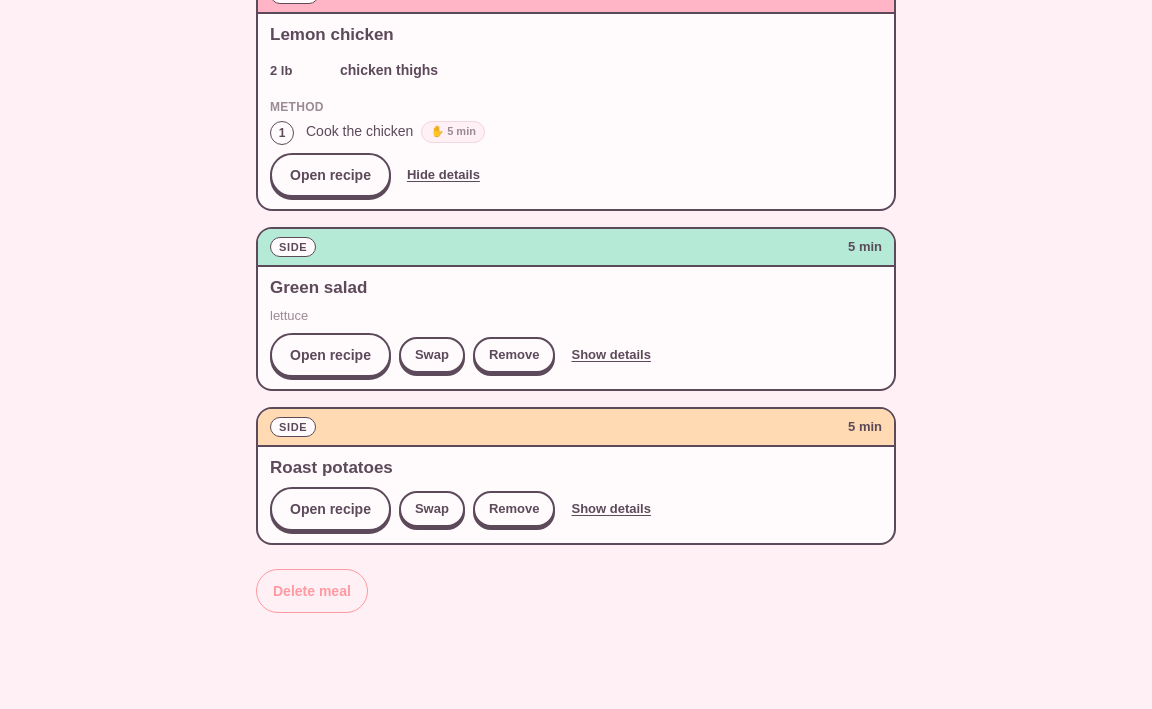
Test: meal screen — side-count rule (issue #652) › shows Remove (not Add) when the meal has two sides, and Remove asks for confirmation
(page scrolled)
Check: the heading "Green salad" is shown, box [270,278,367,297]
Click the button "Remove" below "lettuce" at (514, 355), box [473,337,556,373]
(page scrolled)
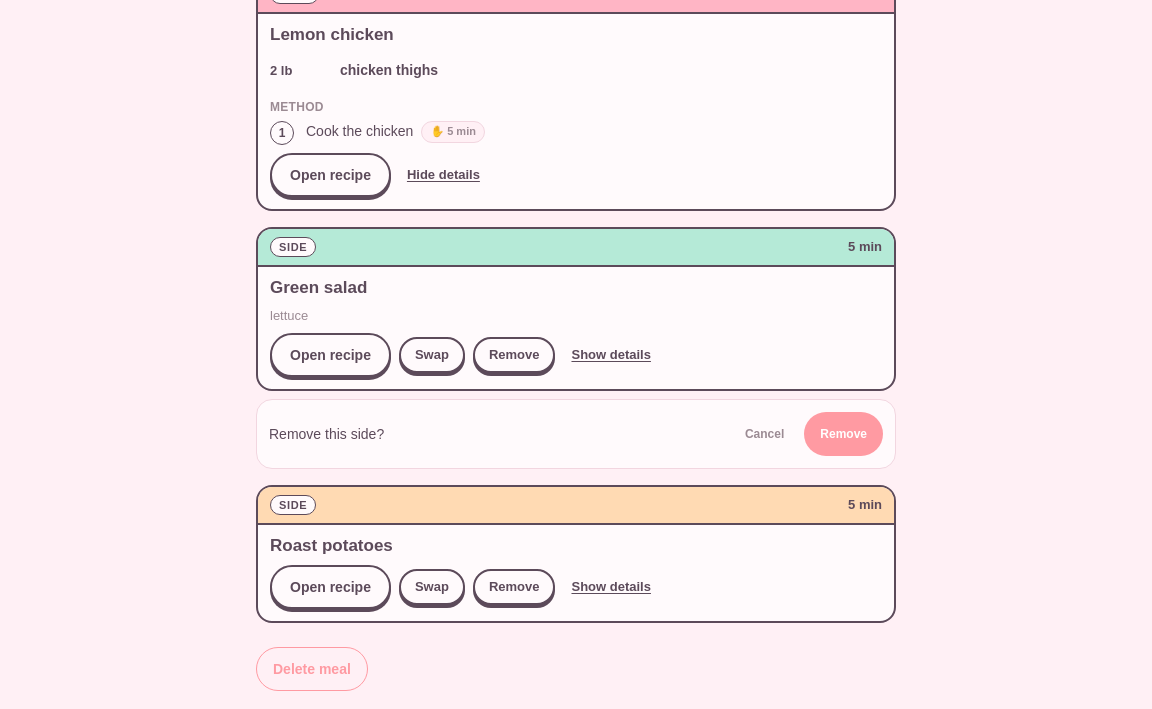
Check: the dialog shows "Remove this side?", box [269,426,384,442]
Click the button "Cancel" at (765, 434), box [733,412,796,456]
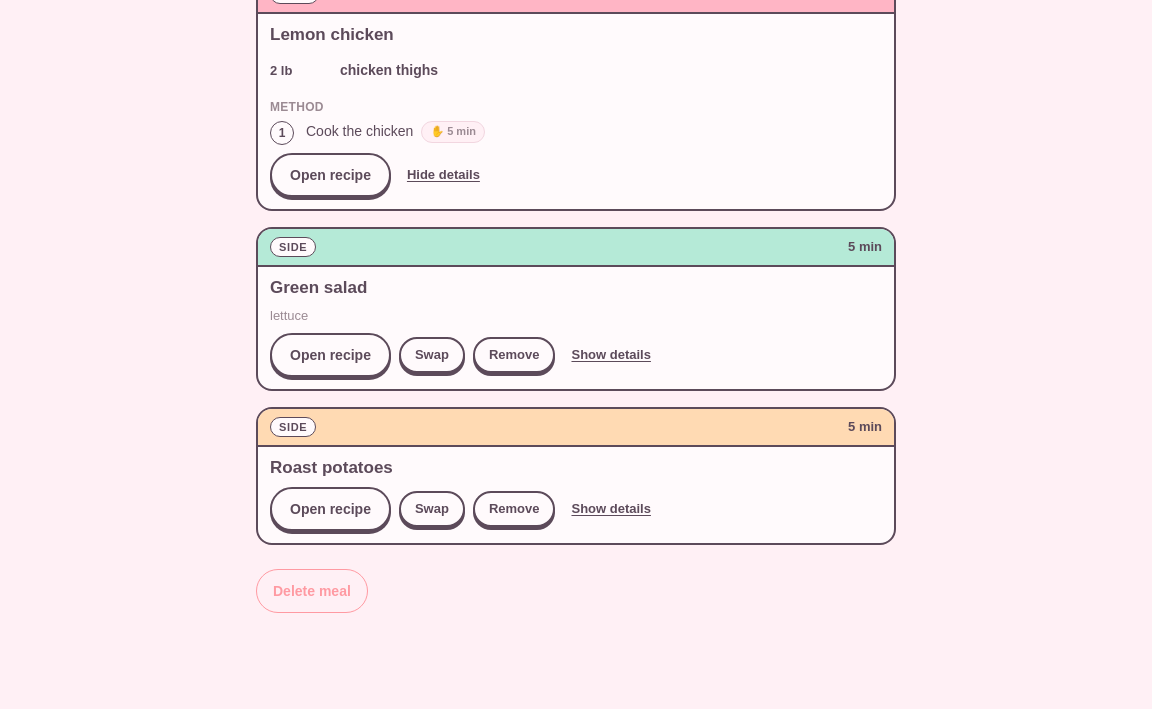
Check: the dialog is gone
